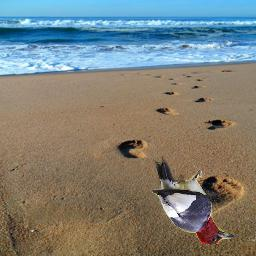Woodpecker: (152, 156, 234, 244)
